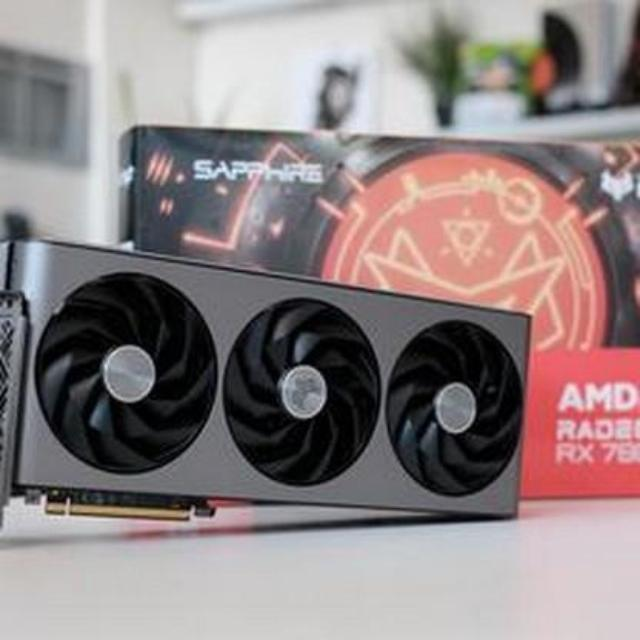GPU: (0, 227, 535, 556)
